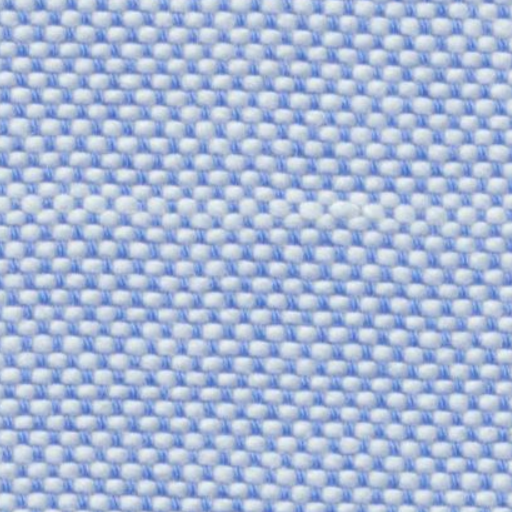TuoSha: (12, 144, 496, 270)
